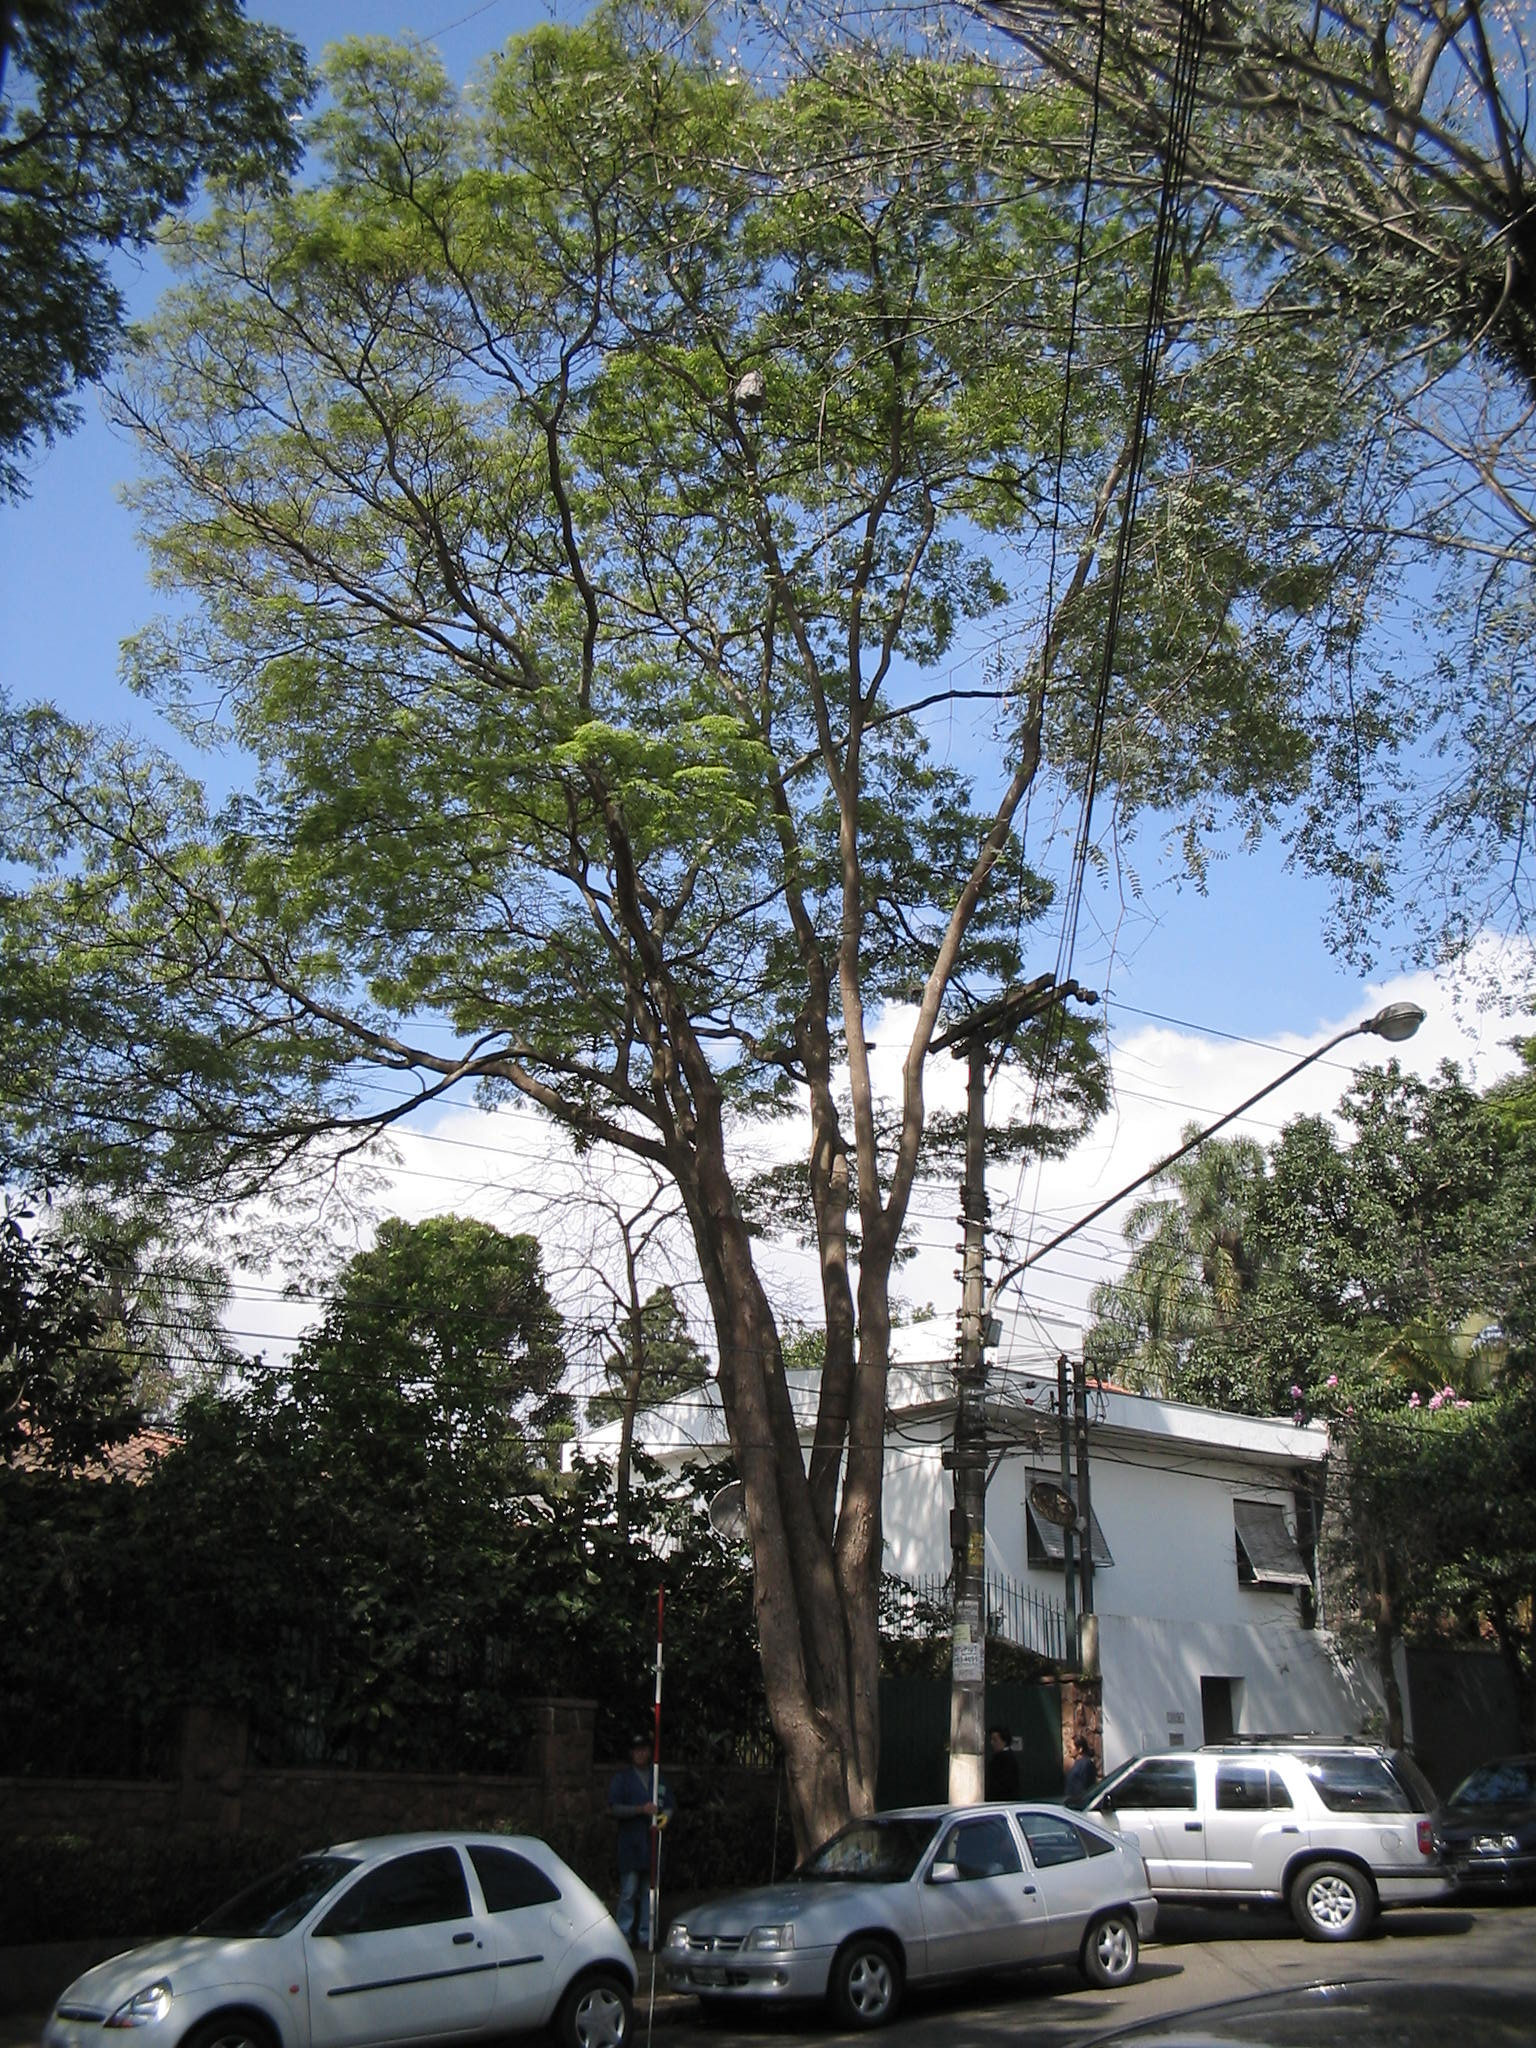crown: (53, 47, 1442, 1127)
stem: (763, 1759, 900, 1961)
stick: (632, 1585, 678, 1954)
tree: (45, 39, 1446, 1959)
